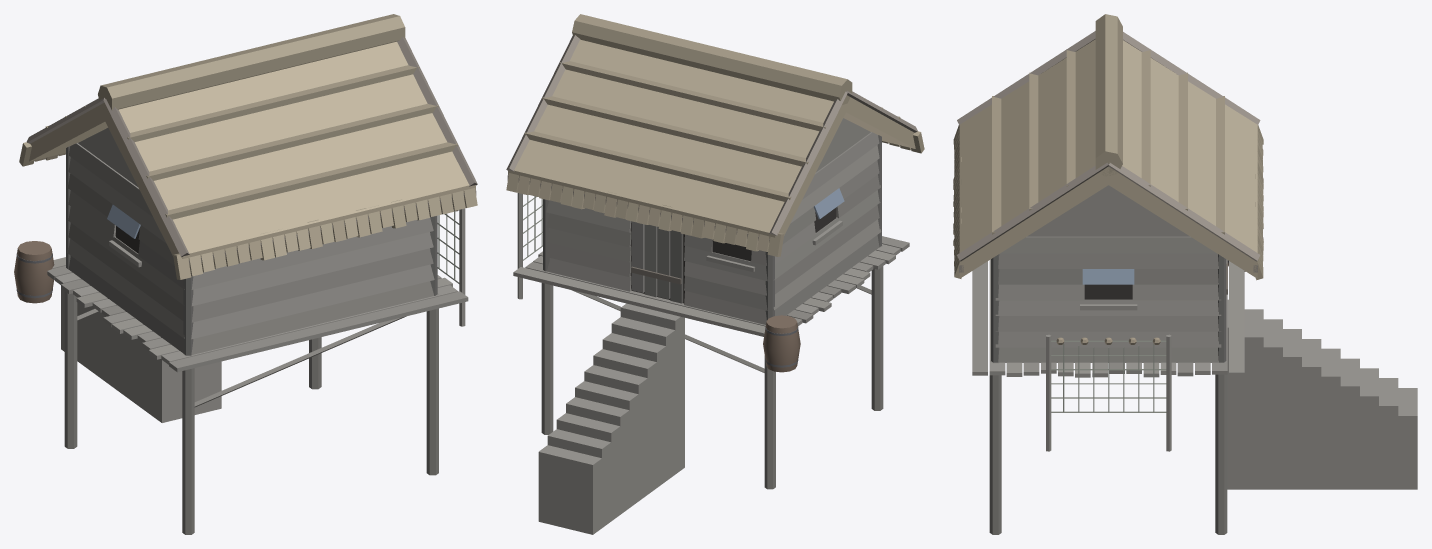
The model's file is house_0_0.gltf.
The picture shows the model from 3 angles, left to right: view 1: azimuth 30°, elevation 25°; view 2: azimuth 150°, elevation 25°; view 3: azimuth 270°, elevation 25°; orthographic projection. The views are drawn at different scales.
Parts seen in each view (by area): view 1: Body; view 2: Body; view 3: Body.
Boxes of the visible parts, bbox=[...] form: Body: bbox=[14, 14, 477, 534]; Body: bbox=[506, 14, 924, 534]; Body: bbox=[953, 14, 1417, 534].
Bounding box in the file's own units: 6.39 × 7.2 × 7.71.
